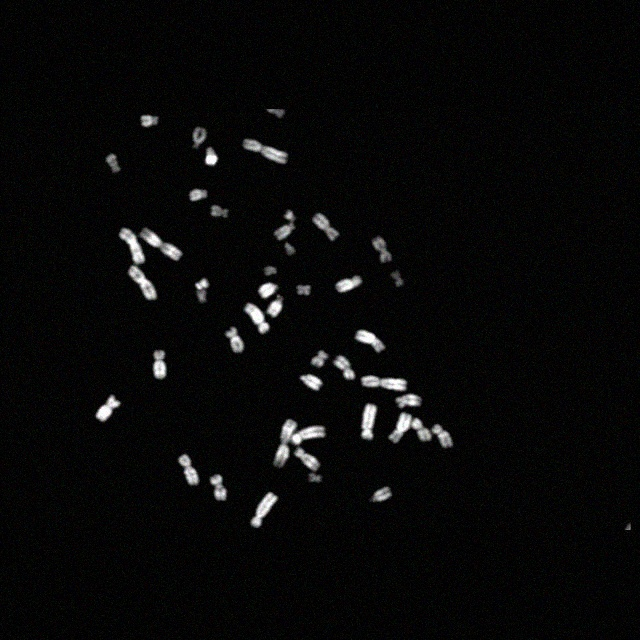chromosome: (138, 228, 182, 262), (272, 418, 296, 468), (243, 139, 287, 163), (118, 228, 146, 264), (128, 265, 156, 299), (250, 493, 278, 527), (313, 212, 339, 242), (244, 304, 270, 334), (388, 412, 412, 443), (96, 394, 120, 422), (355, 330, 385, 352), (361, 376, 407, 390), (292, 427, 326, 445), (179, 454, 199, 484), (361, 403, 377, 439), (333, 354, 355, 380), (294, 448, 320, 470), (372, 237, 392, 263), (432, 425, 452, 449), (225, 327, 243, 353), (210, 474, 227, 501), (412, 418, 431, 440), (335, 276, 361, 292), (274, 222, 296, 240), (300, 374, 322, 391), (267, 296, 283, 318), (396, 394, 420, 408), (154, 351, 166, 379), (371, 487, 392, 503), (258, 282, 278, 298), (310, 351, 328, 367), (192, 128, 206, 148), (106, 154, 120, 172), (210, 205, 228, 218), (190, 189, 208, 201), (206, 148, 218, 164), (391, 270, 403, 286), (141, 115, 157, 126), (296, 284, 310, 296), (284, 210, 296, 222), (284, 243, 296, 255), (196, 278, 208, 290), (264, 266, 276, 276), (197, 291, 207, 303), (308, 473, 320, 483)
